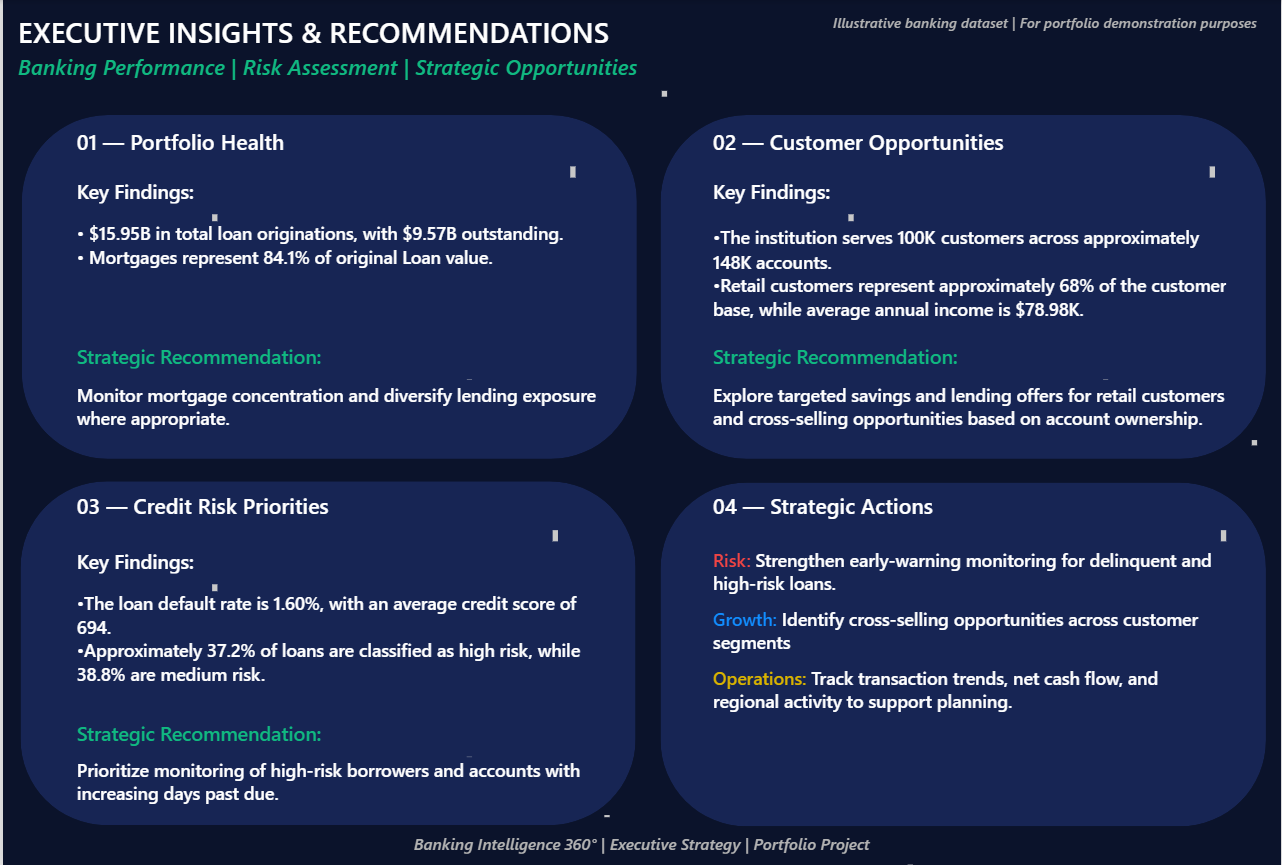

What the dashboard file says about the page in this screenshot:
{"tool":"powerbi","page":{"name":"Executive Insights & Recommendations","canvas":[1920,1300],"ordinal":4},"visuals":[{"type":"textbox","title":"EXECUTIVE INSIGHTS & RECOMMENDATIONS","box":[21.8,19.4,974.3,126],"z":0},{"type":"shape","box":[29.1,172.1,923.4,516.2],"z":1000},{"type":"shape","box":[986.4,724.7,908.9,516.2],"z":2000},{"type":"shape","box":[986.4,172.1,908.9,516.2],"z":3000},{"type":"shape","box":[26.7,722.3,923.4,516.2],"z":4000},{"type":"textbox","title":"Banking Intelligence 360° | Executive Strategy | Portfolio Project","box":[552.6,1250.6,814.4,48.5],"z":5000},{"type":"textbox","title":"01 — Portfolio Health","box":[111.5,191.5,748.9,75.1],"z":6000},{"type":"textbox","title":"02 — Customer Opportunities","box":[1066.4,191.5,753.8,75.1],"z":7000},{"type":"textbox","title":"03 — Credit Risk Priorities","box":[111.5,736.8,722.3,75.1],"z":8000},{"type":"textbox","title":"04 — Strategic Actions","box":[1066.4,736.8,770.7,75.1],"z":9000},{"type":"textbox","title":"Key Findings:","box":[111.5,266.6,210.9,65.4],"z":9001},{"type":"textbox","box":[111.5,332,748.9,99.4],"z":9002},{"type":"textbox","title":"Strategic Recommendation:","box":[111.5,513.8,593.8,55.7],"z":9003},{"type":"textbox","title":"Monitor mortgage concentration and diversify lending exposure where appropriate.","box":[111.5,574.4,799.8,109.1],"z":9004},{"type":"textbox","title":"Key Findings:","box":[1066.4,266.6,210.9,65.4],"z":9005},{"type":"textbox","title":"Key Findings:","box":[111.5,821.6,210.9,65.4],"z":9006},{"type":"textbox","box":[1066.4,332,770.7,150.3],"z":9008},{"type":"textbox","title":"Strategic Recommendation:","box":[111.5,1081,593.8,55.7],"z":9009},{"type":"textbox","title":"Strategic Recommendation:","box":[1066.4,513.8,593.8,55.7],"z":9011},{"type":"textbox","box":[111.5,887.1,775.6,162.4],"z":9012},{"type":"textbox","box":[1066.4,821.6,770.7,261.8],"z":9013},{"type":"textbox","title":"Explore targeted savings and lending offers for retail customers and cross-selling opportunities based on account ownership.","box":[1066.4,574.4,816.8,94.5],"z":9014},{"type":"textbox","title":"Prioritize monitoring of high-risk borrowers and accounts with increasing days past due.","box":[111.5,1136.7,799.8,89.7],"z":9015},{"type":"textbox","title":"Illustrative banking dataset | For portfolio demonstration purposes","box":[1245.8,19.4,649.5,63],"z":9016}]}

Visuals, with their boxes in screenshot pixels (x1, y1, x2, y2), scaled from the page's 1920x1300 canvas onto the 1282x865 screenshot:
"EXECUTIVE INSIGHTS & RECOMMENDATIONS" textbox: {"x1": 15, "y1": 13, "x2": 665, "y2": 97}
shape: {"x1": 19, "y1": 115, "x2": 636, "y2": 458}
shape: {"x1": 659, "y1": 482, "x2": 1266, "y2": 826}
shape: {"x1": 659, "y1": 115, "x2": 1266, "y2": 458}
shape: {"x1": 18, "y1": 481, "x2": 634, "y2": 824}
"Banking Intelligence 360° | Executive Strategy | Portfolio Project" textbox: {"x1": 369, "y1": 832, "x2": 913, "y2": 864}
"01 — Portfolio Health" textbox: {"x1": 74, "y1": 127, "x2": 574, "y2": 177}
"02 — Customer Opportunities" textbox: {"x1": 712, "y1": 127, "x2": 1215, "y2": 177}
"03 — Credit Risk Priorities" textbox: {"x1": 74, "y1": 490, "x2": 557, "y2": 540}
"04 — Strategic Actions" textbox: {"x1": 712, "y1": 490, "x2": 1227, "y2": 540}
"Key Findings:" textbox: {"x1": 74, "y1": 177, "x2": 215, "y2": 221}
textbox: {"x1": 74, "y1": 221, "x2": 574, "y2": 287}
"Strategic Recommendation:" textbox: {"x1": 74, "y1": 342, "x2": 471, "y2": 379}
"Monitor mortgage concentration and diversify lending exposure where appropriate." textbox: {"x1": 74, "y1": 382, "x2": 608, "y2": 455}
"Key Findings:" textbox: {"x1": 712, "y1": 177, "x2": 853, "y2": 221}
"Key Findings:" textbox: {"x1": 74, "y1": 547, "x2": 215, "y2": 590}
textbox: {"x1": 712, "y1": 221, "x2": 1227, "y2": 321}
"Strategic Recommendation:" textbox: {"x1": 74, "y1": 719, "x2": 471, "y2": 756}
"Strategic Recommendation:" textbox: {"x1": 712, "y1": 342, "x2": 1109, "y2": 379}
textbox: {"x1": 74, "y1": 590, "x2": 592, "y2": 698}
textbox: {"x1": 712, "y1": 547, "x2": 1227, "y2": 721}
"Explore targeted savings and lending offers for retail customers and cross-selling opportunities based on account ownership." textbox: {"x1": 712, "y1": 382, "x2": 1257, "y2": 445}
"Prioritize monitoring of high-risk borrowers and accounts with increasing days past due." textbox: {"x1": 74, "y1": 756, "x2": 608, "y2": 816}
"Illustrative banking dataset | For portfolio demonstration purposes" textbox: {"x1": 832, "y1": 13, "x2": 1266, "y2": 55}
